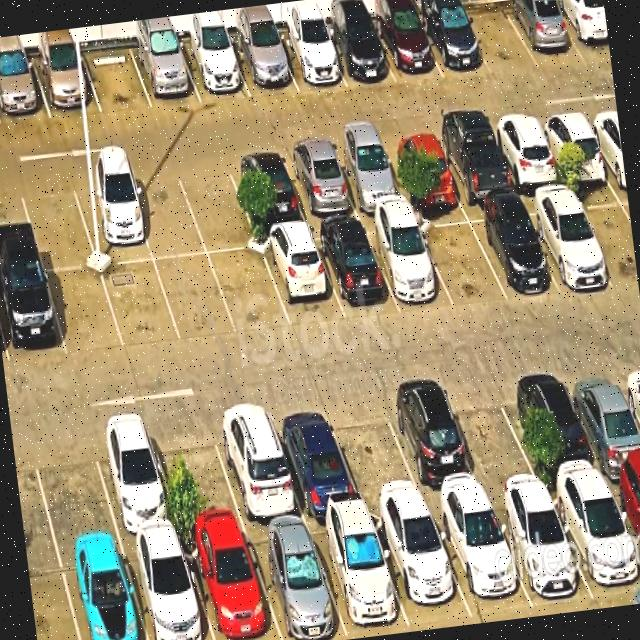empty: (443, 373, 543, 495), (324, 391, 425, 507), (148, 413, 244, 533), (28, 423, 119, 549), (414, 210, 507, 306), (175, 157, 258, 253), (126, 166, 206, 259), (18, 177, 97, 270), (154, 254, 237, 342), (101, 260, 181, 349), (209, 249, 291, 334), (46, 267, 124, 356), (571, 185, 638, 287), (459, 2, 538, 75), (81, 45, 152, 112)
occupied: (307, 512, 411, 639), (381, 381, 486, 504), (488, 490, 594, 608), (243, 522, 348, 640), (429, 497, 533, 616), (369, 507, 472, 625), (208, 400, 305, 525), (547, 479, 640, 606), (266, 399, 363, 517), (87, 417, 180, 539), (511, 366, 605, 486), (181, 528, 281, 640), (122, 535, 214, 640), (519, 190, 614, 290), (562, 361, 640, 478), (464, 203, 558, 299), (258, 227, 345, 329), (58, 542, 147, 640), (362, 216, 454, 309), (311, 221, 399, 318), (70, 172, 153, 265), (432, 124, 516, 203), (226, 151, 307, 231), (0, 268, 67, 364), (280, 145, 359, 222), (328, 139, 408, 214), (381, 132, 462, 204), (488, 116, 565, 191), (502, 0, 585, 67), (536, 110, 612, 182), (370, 10, 443, 83), (415, 7, 491, 77), (321, 19, 395, 86), (177, 38, 251, 103), (130, 40, 201, 107), (32, 50, 101, 118), (274, 27, 346, 91), (229, 33, 297, 96), (551, 0, 610, 61), (0, 56, 50, 124), (605, 472, 640, 560)
